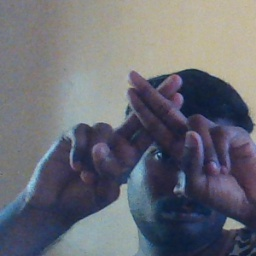F: (94, 67, 223, 187)
